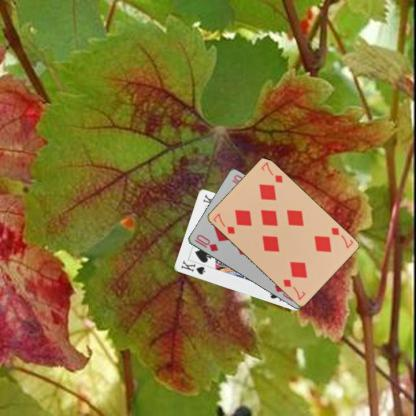10d: (191, 232, 219, 253)
7d: (328, 224, 354, 249), (210, 211, 236, 235)
Ks: (178, 258, 206, 276)
